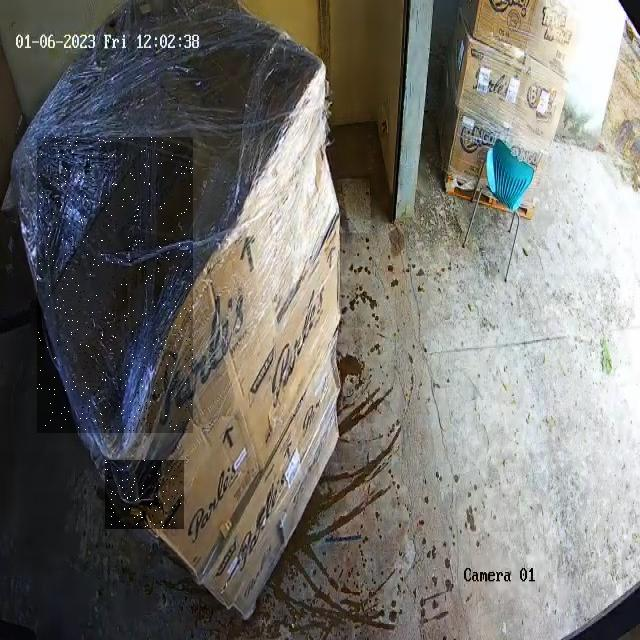leakage: (106, 460, 182, 528)
squeeze: (37, 137, 193, 431)
